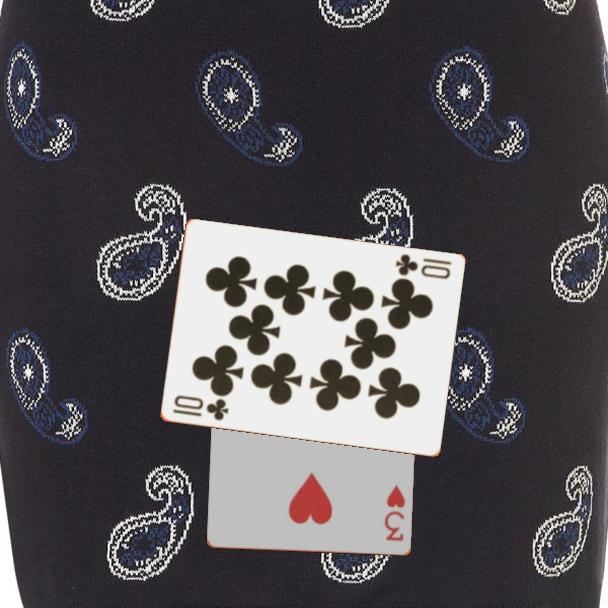c10: (169, 392, 231, 424), (392, 251, 454, 282)
h03: (381, 481, 408, 544)
